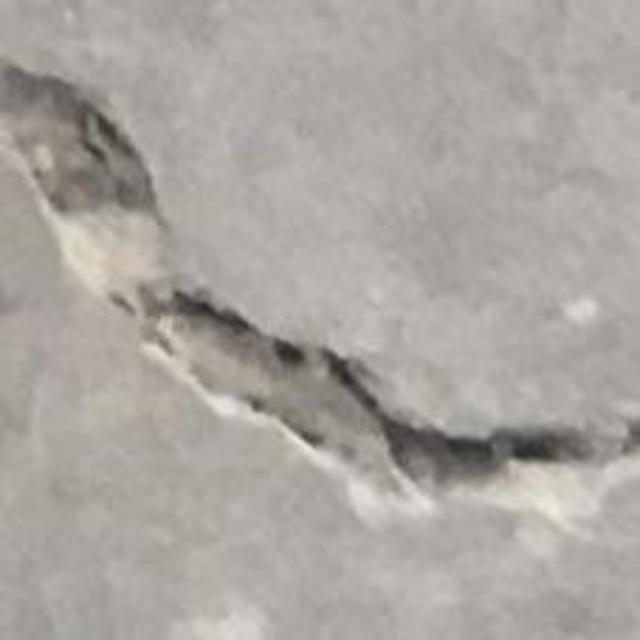crack: (0, 63, 639, 515)
